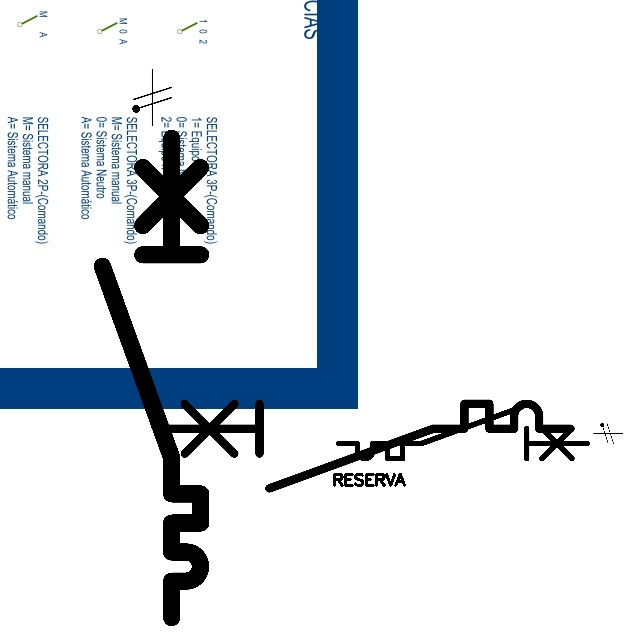interruptor_termomagnetico: (90, 125, 213, 629), (149, 393, 581, 499), (332, 401, 594, 465)
